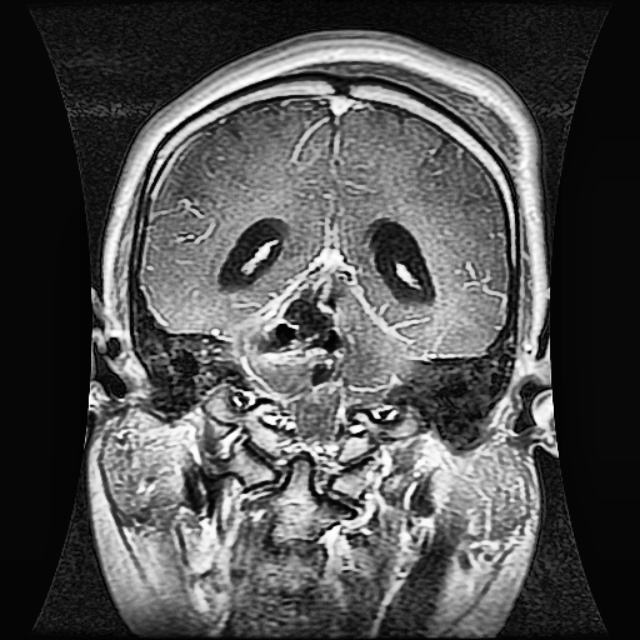Meningioma: (245, 247, 359, 384)
